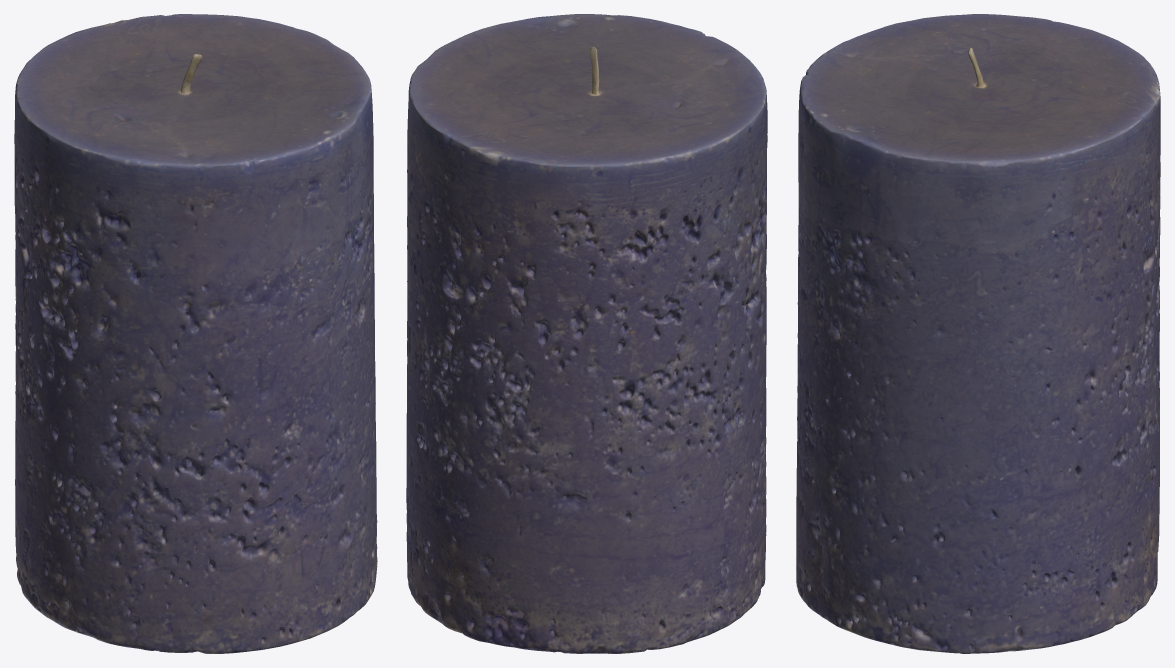
Rendered from Candle.gltf.
3 renders of one model, left to right at view 1: azimuth 30°, elevation 25°; view 2: azimuth 150°, elevation 25°; view 3: azimuth 270°, elevation 25°, orthographic.
Parts seen in each view (by area): view 1: MDL_Candle; view 2: MDL_Candle; view 3: MDL_Candle.
Boxes of the visible parts, bbox=[...] form: MDL_Candle: bbox=[14, 14, 377, 653]; MDL_Candle: bbox=[406, 14, 767, 653]; MDL_Candle: bbox=[796, 14, 1160, 653].
Bounding box in the file's own units: 9.86 × 16 × 9.94.
1 material, 1 textured.
